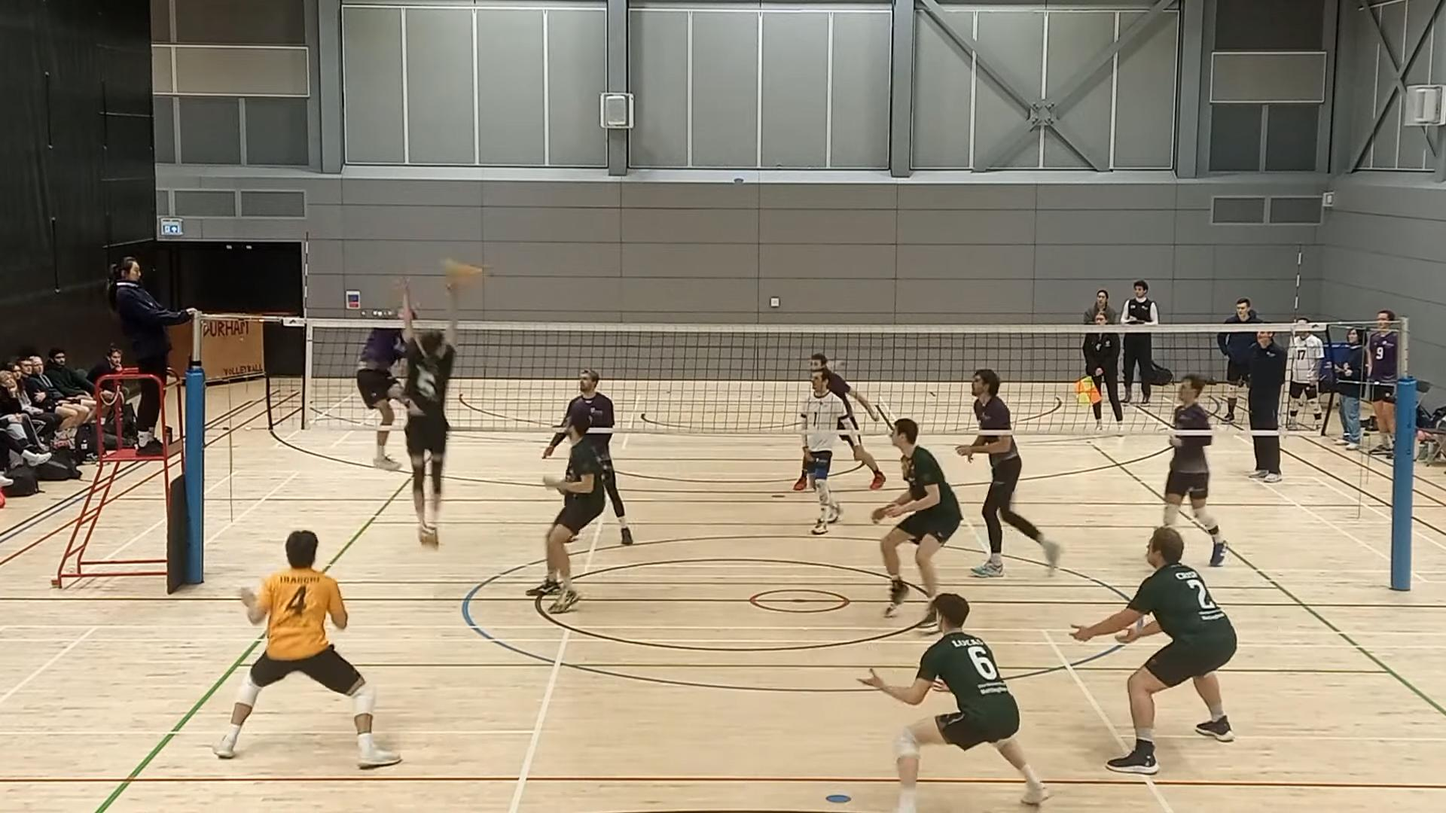Attack: (356, 270, 424, 480)
Block: (394, 306, 453, 558)
Player: (213, 531, 400, 768), (860, 593, 1050, 812), (1072, 527, 1237, 774), (956, 368, 1060, 577), (871, 419, 961, 617), (542, 369, 633, 545), (527, 415, 604, 613), (1164, 374, 1225, 566), (810, 353, 886, 489), (800, 370, 847, 534)
